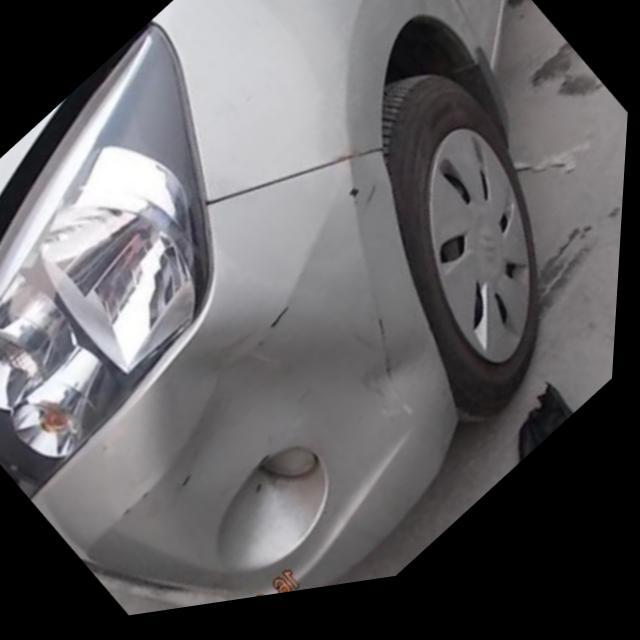dent: (162, 327, 424, 551)
dislocated part: (0, 22, 155, 288)
